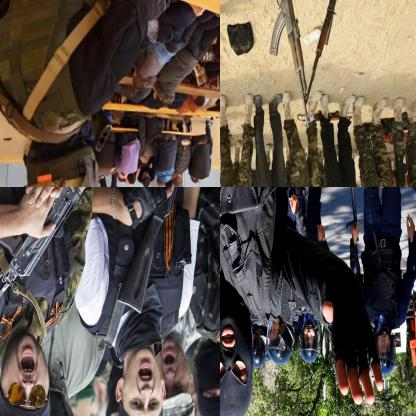rifle: (0, 187, 119, 352), (118, 187, 202, 323), (256, 0, 313, 127), (305, 0, 364, 104)
